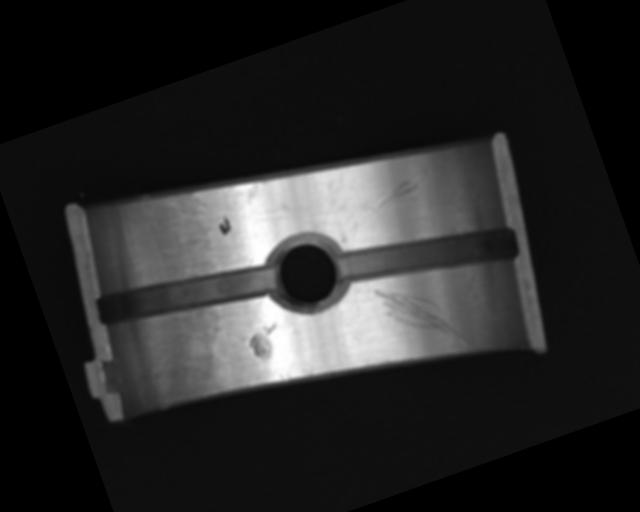blot: (215, 214, 233, 237)
bruise: (243, 321, 286, 363)
gap: (333, 197, 520, 313), (92, 239, 279, 347)
hole: (261, 226, 351, 319)
nick: (372, 265, 470, 368), (360, 177, 421, 213)
